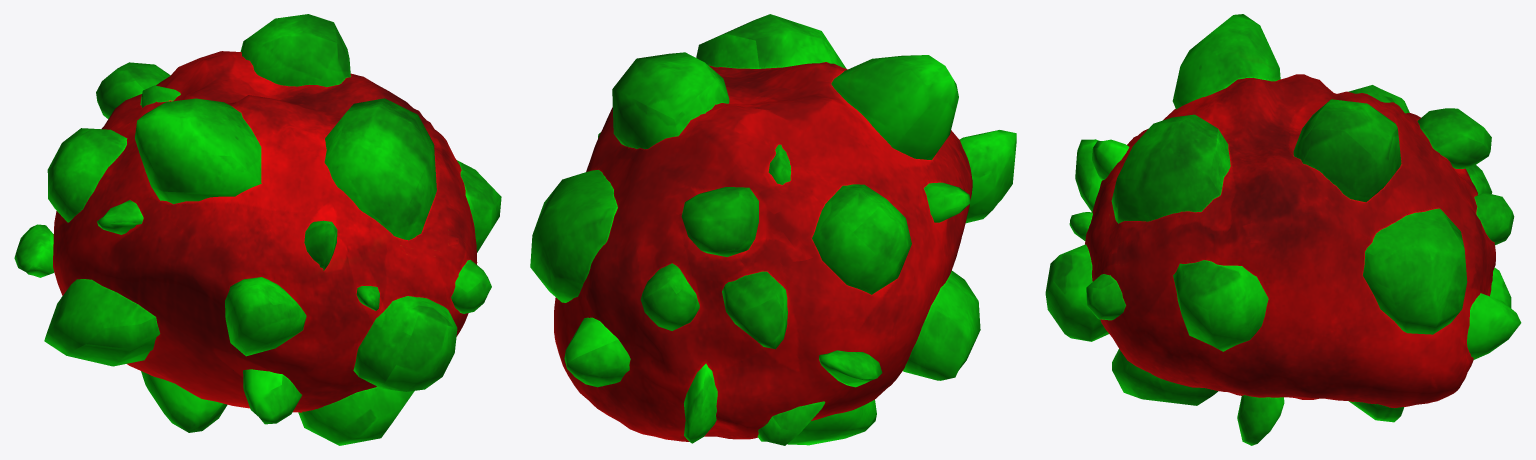
File: temp_ore.fbx
3 renders of one model, left to right at view 1: azimuth 30°, elevation 25°; view 2: azimuth 150°, elevation 25°; view 3: azimuth 270°, elevation 25°, orthographic. The views are drawn at different scales.
Parts seen in each view (by area): view 1: ore; view 2: ore; view 3: ore.
Part boxes in pixels (x1=…): ore: x1=14, y1=14, x2=501, y2=445; ore: x1=530, y1=14, x2=1016, y2=445; ore: x1=1045, y1=14, x2=1521, y2=445.
Bounding box in the file's own units: 416 × 356 × 461.
1 material, 1 textured.
